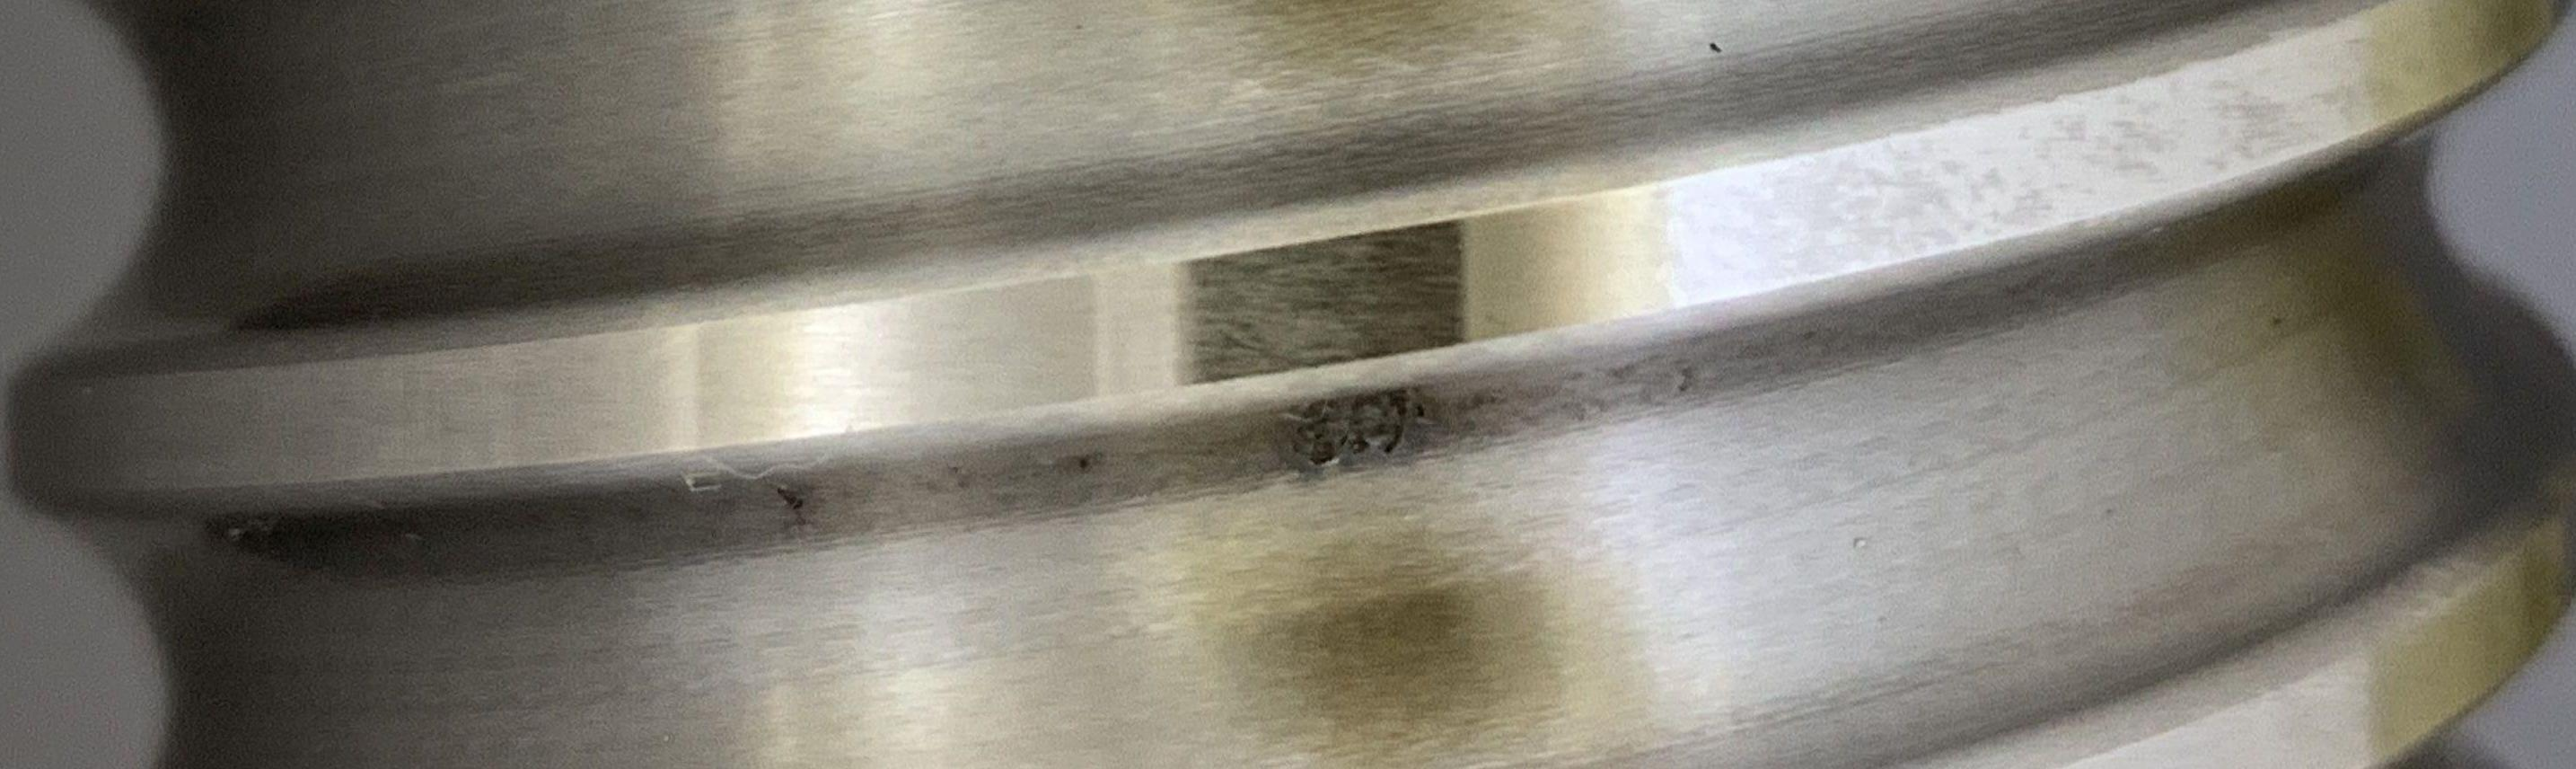pitting: (1295, 389, 1411, 467), (777, 488, 803, 509)
